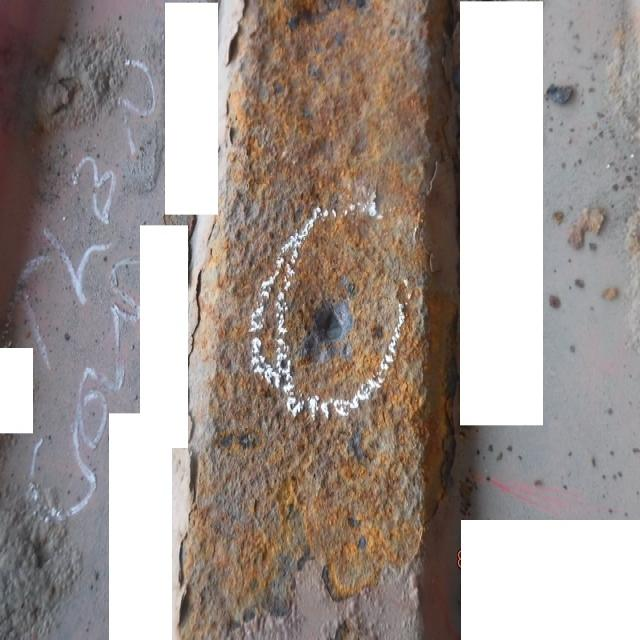rust: (182, 2, 457, 640), (14, 30, 132, 136), (2, 492, 88, 637)
